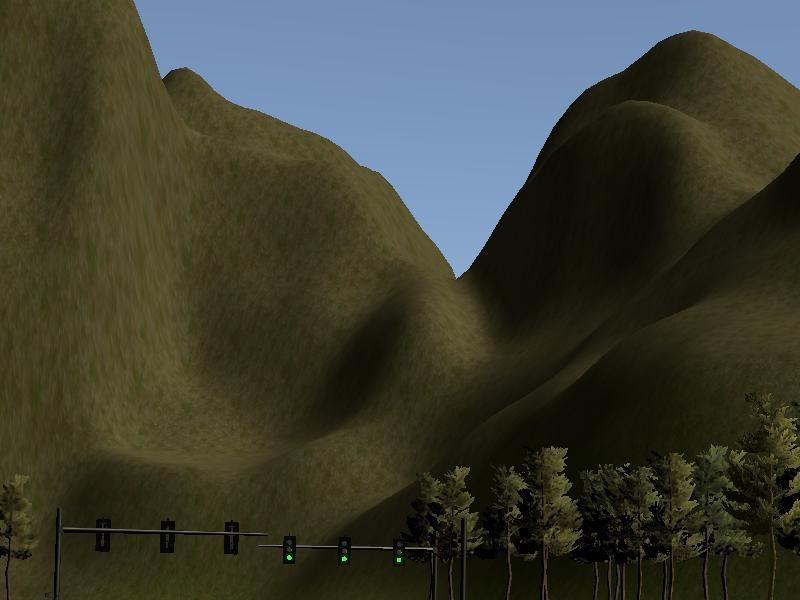green: (390, 538, 407, 565), (283, 532, 296, 565), (339, 535, 351, 565)
